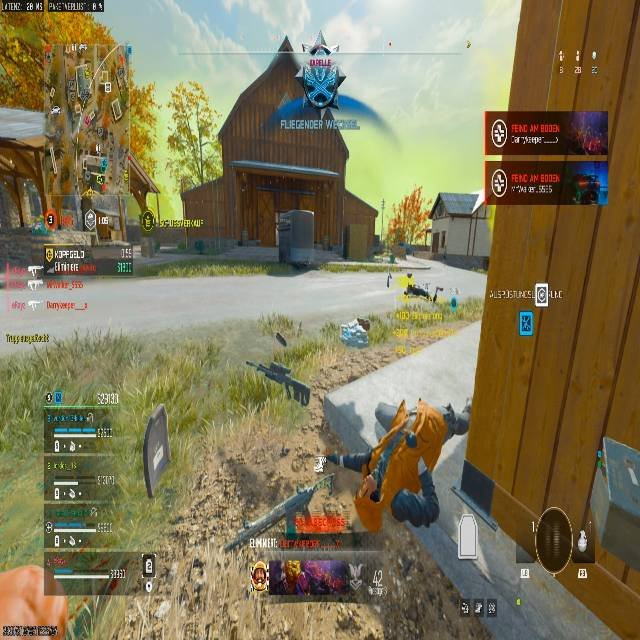head: (310, 44, 331, 57)
player: (293, 41, 346, 112)
